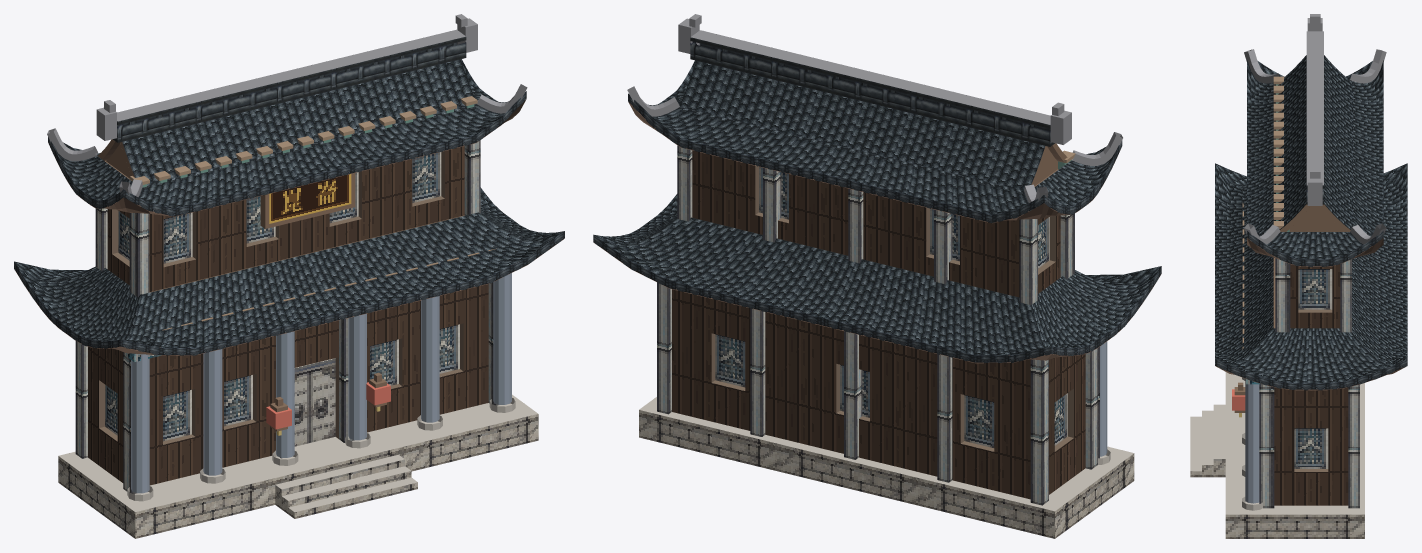
File: g_gonryun_wood_b.glb
3 renders of one model, left to right at view 1: azimuth 30°, elevation 25°; view 2: azimuth 150°, elevation 25°; view 3: azimuth 270°, elevation 25°, orthographic. The views are drawn at different scales.
Parts seen in each view (by area): view 1: roof, plaster, col, stone, stonetop, win, eave, post, ridge, ridgeend, reveal, door (+5 smaller); view 2: roof, plaster, post, stone, eave, ridge, ridgeend, win, stonetop, reveal, under, col; view 3: roof, plaster, stonetop, post, ridgeend, stone, win, eave, col, woodl, wood, under.
Part boxes in pixels (x1,y1,x2,y2): roof: (14, 59, 564, 348); plaster: (88, 146, 488, 485); col: (131, 273, 511, 493); stone: (58, 414, 538, 538); stonetop: (58, 394, 537, 512); win: (105, 152, 459, 441); eave: (14, 91, 564, 355); post: (75, 140, 498, 494); ridge: (113, 36, 466, 142); ridgeend: (47, 14, 527, 197); reveal: (99, 151, 463, 444); door: (294, 358, 335, 446); roof: (593, 60, 1161, 355); plaster: (672, 150, 1085, 499); post: (657, 145, 1099, 505); stone: (639, 410, 1134, 538); eave: (593, 93, 1161, 363); ridge: (690, 37, 1054, 146); ridgeend: (627, 14, 1122, 207); win: (715, 167, 1067, 447); stonetop: (639, 397, 1133, 511); reveal: (711, 166, 1073, 451); under: (594, 102, 1160, 363); col: (1100, 341, 1107, 456); roof: (1215, 55, 1407, 383); plaster: (1274, 264, 1348, 505); stonetop: (1190, 372, 1364, 514); post: (1259, 258, 1359, 508); ridgeend: (1244, 14, 1386, 244); stone: (1190, 459, 1364, 538); win: (1294, 269, 1332, 468); eave: (1215, 231, 1407, 390); col: (1245, 379, 1259, 503); woodl: (1242, 76, 1284, 349); wood: (1234, 204, 1350, 412); under: (1215, 238, 1405, 390).
Bounding box in the file's own units: 86.83 × 73.59 × 40.69.
Materials: 20 (10 with a texture image).
